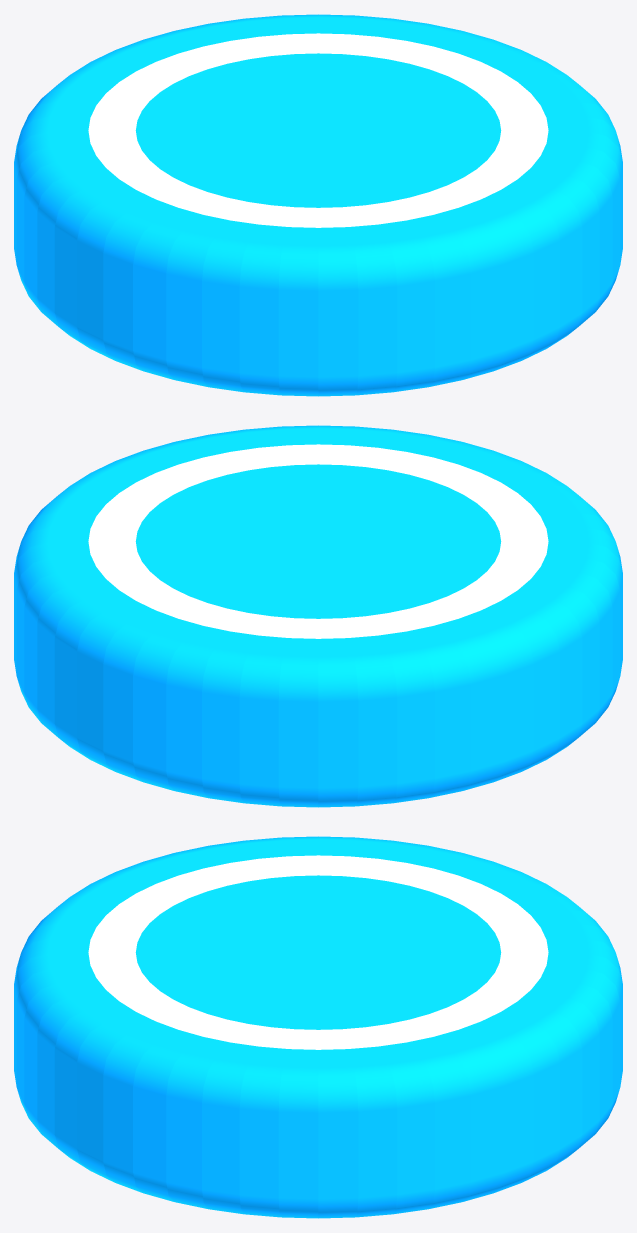
Rendered from steward.glb.
3 views of the same model, one above another, from view 1: azimuth 30°, elevation 25°; view 2: azimuth 150°, elevation 25°; view 3: azimuth 270°, elevation 25° (orthographic).
Visible parts, largest first — view 1: steward; view 2: steward; view 3: steward.
Part boxes in pixels (<box>): steward: <box>14,14,622,396</box>; steward: <box>14,425,622,807</box>; steward: <box>14,836,622,1218</box>.
Size of the model in its own units: 9 by 2.42 by 9.
